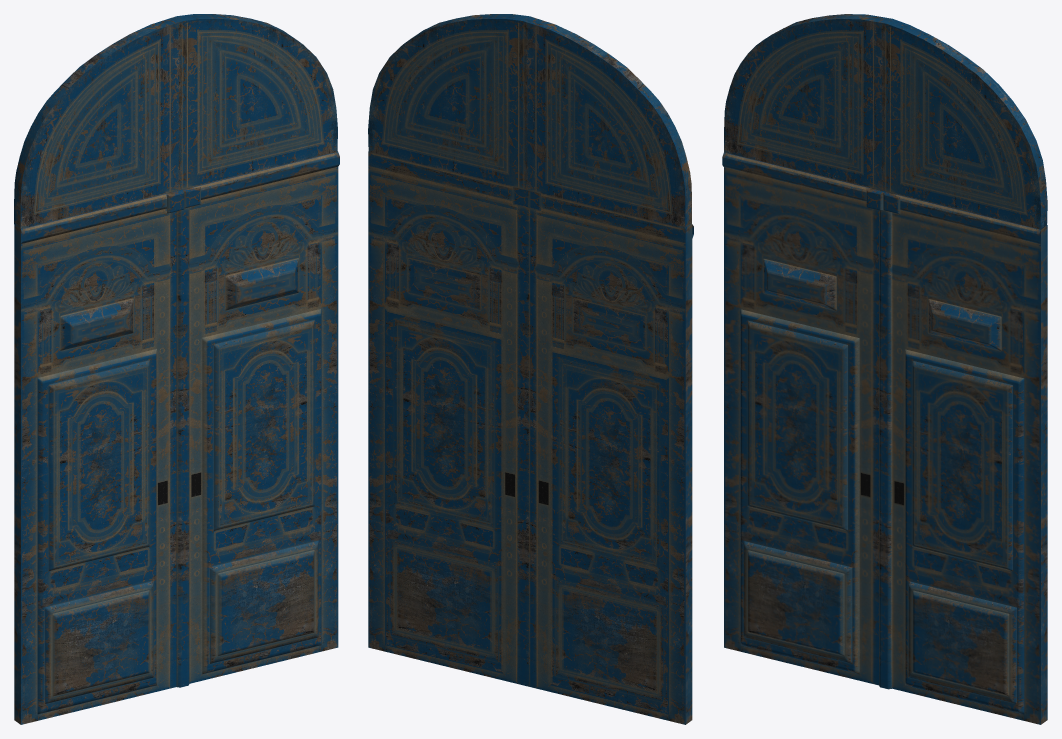
Rendered from SM_Door.FBX.
3 renders of one model, left to right at view 1: azimuth 30°, elevation 25°; view 2: azimuth 150°, elevation 25°; view 3: azimuth 330°, elevation 25°, orthographic.
Parts seen in each view (by area): view 1: SM_Door; view 2: SM_Door; view 3: SM_Door.
Part boxes in pixels (x1=…): SM_Door: x1=14, y1=14, x2=339, y2=724; SM_Door: x1=368, y1=14, x2=693, y2=724; SM_Door: x1=722, y1=14, x2=1047, y2=724.
Size of the model in its own units: 300 by 20.22 by 600.
